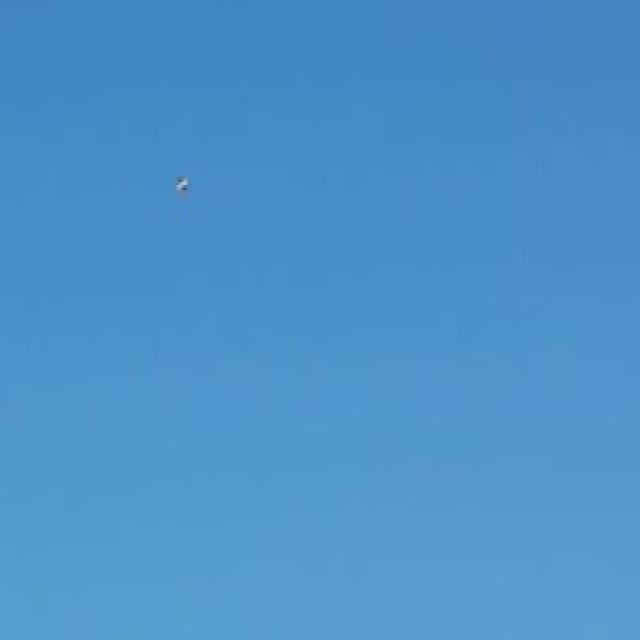iha: (175, 177, 190, 194)
